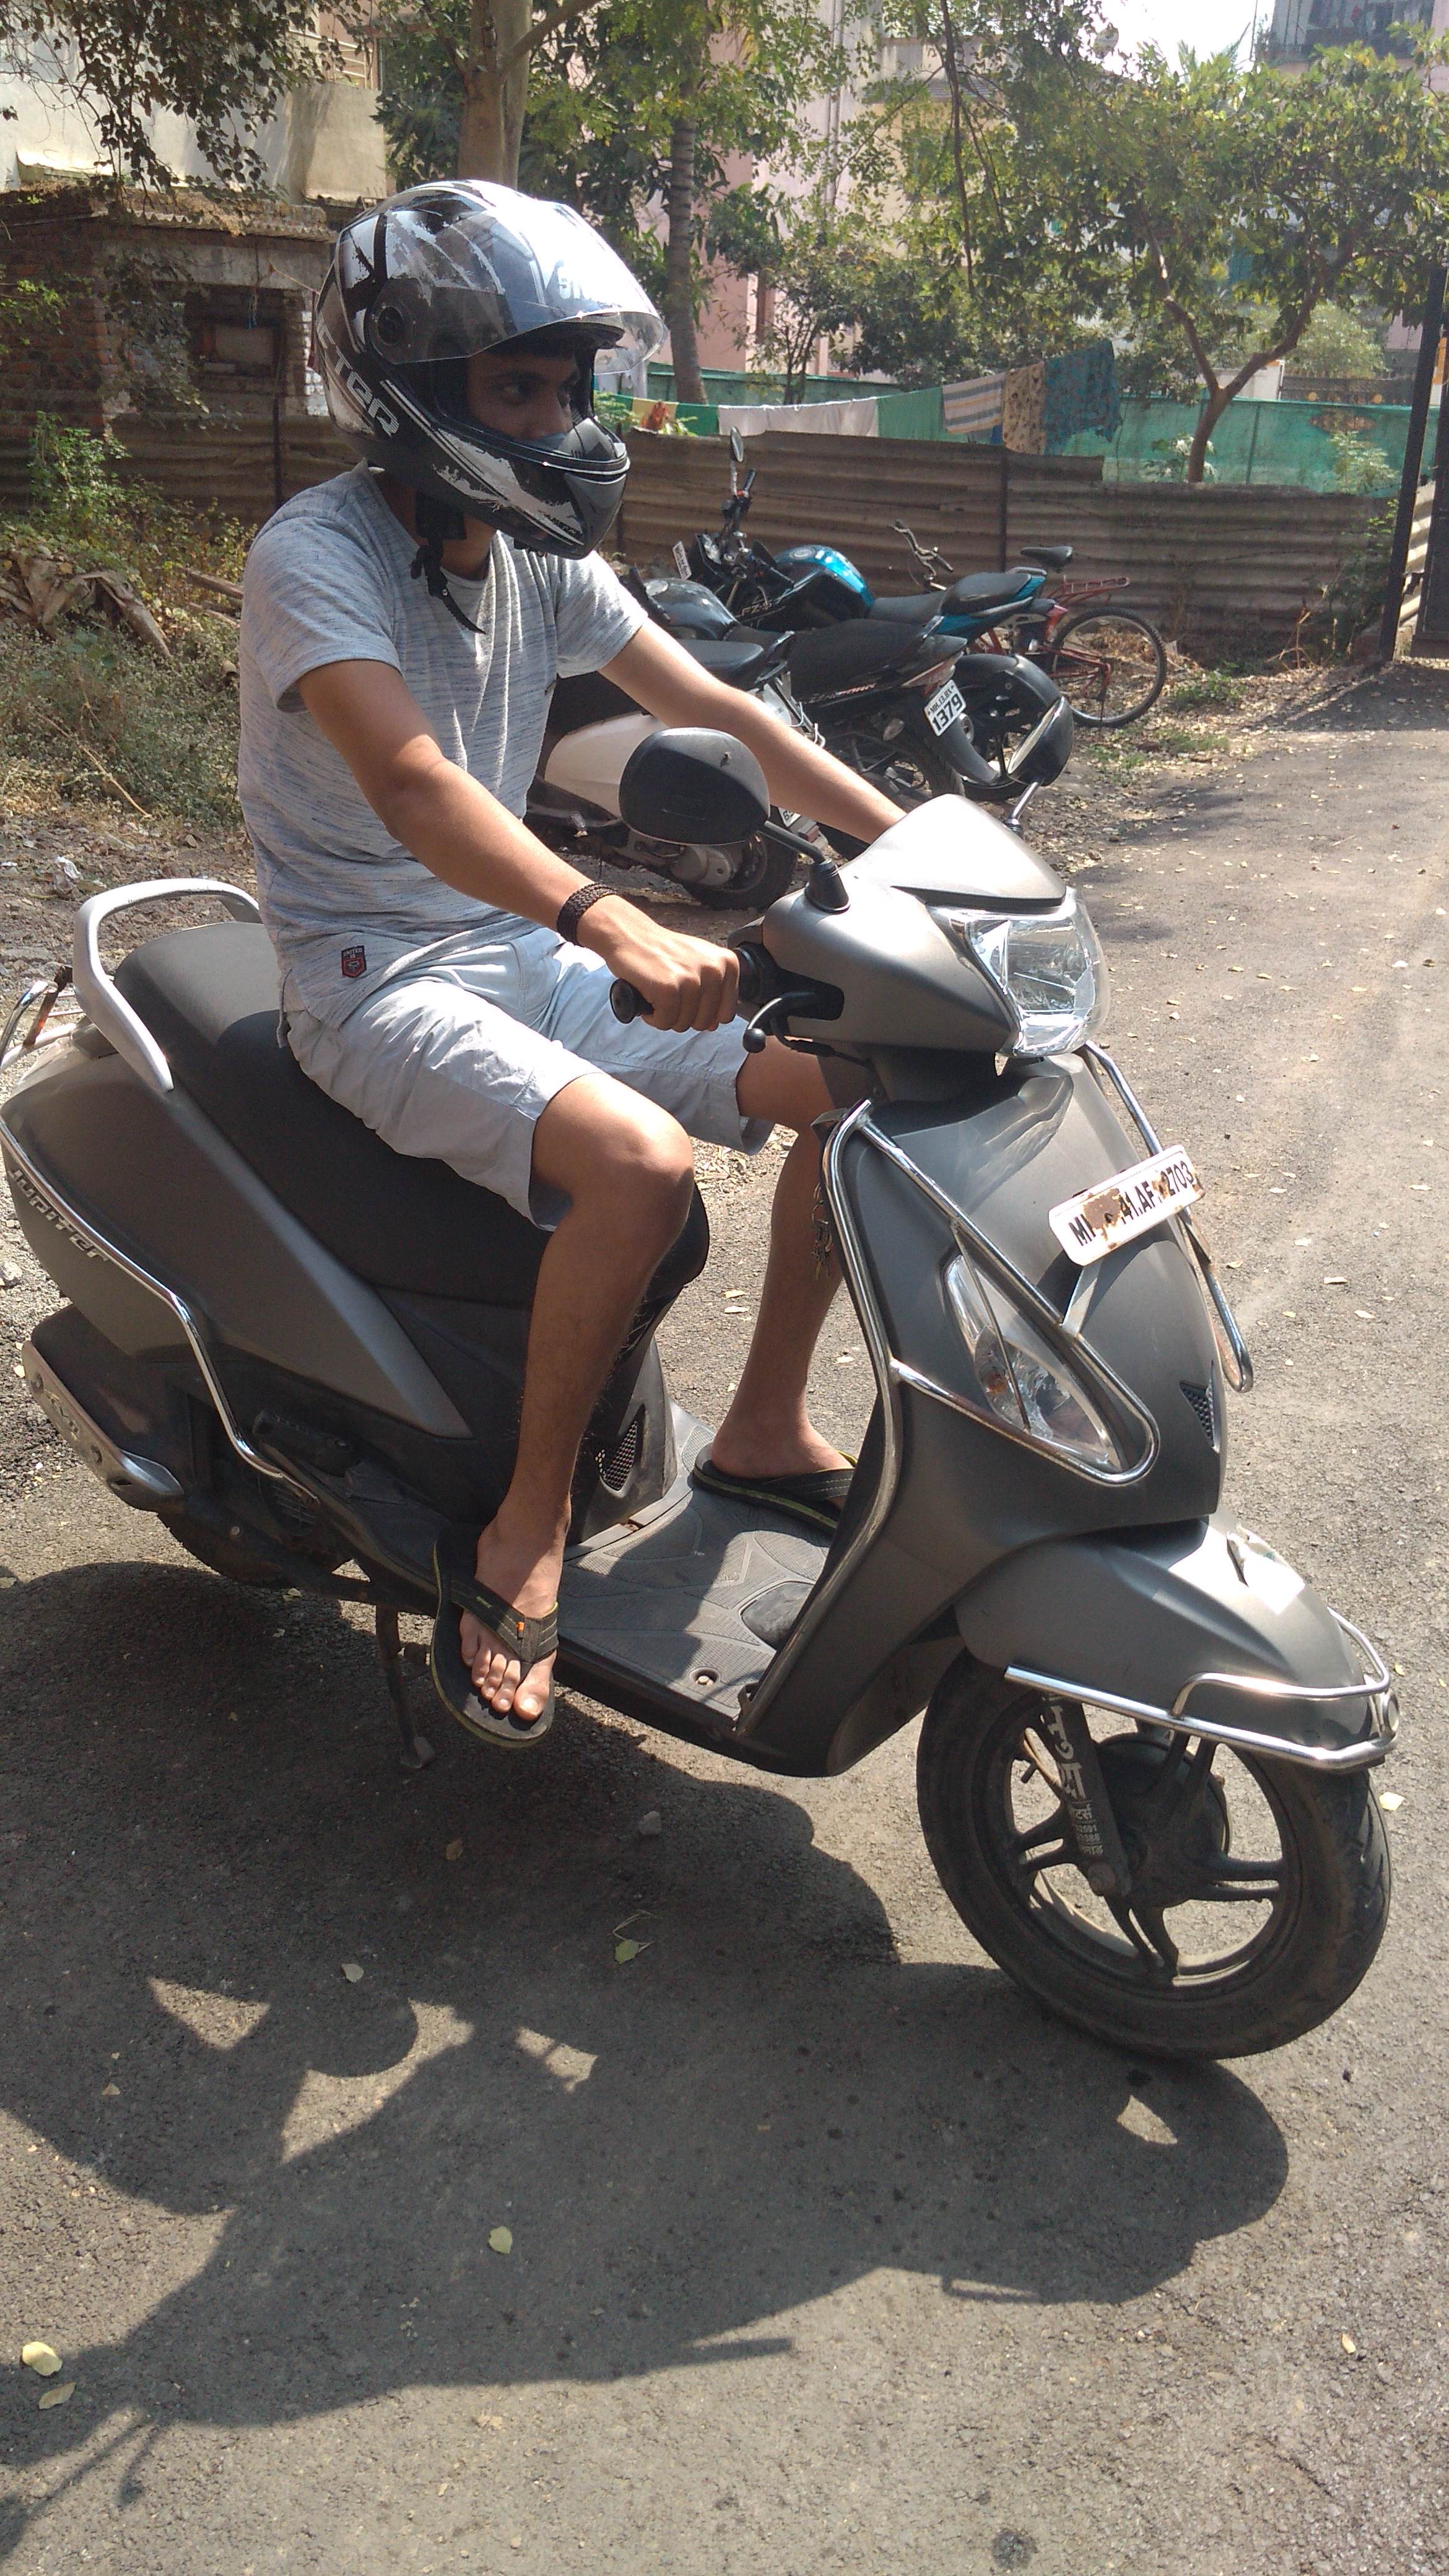helmet: (180, 152, 1023, 1384)
